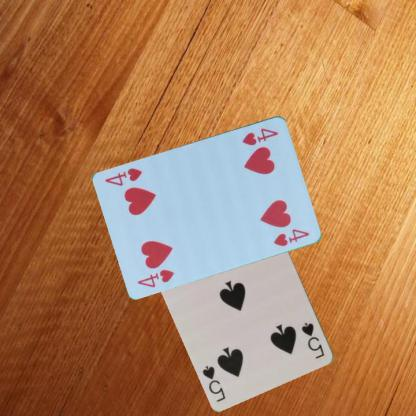4h: (134, 266, 176, 288), (239, 125, 280, 146)
5s: (299, 320, 326, 361)
